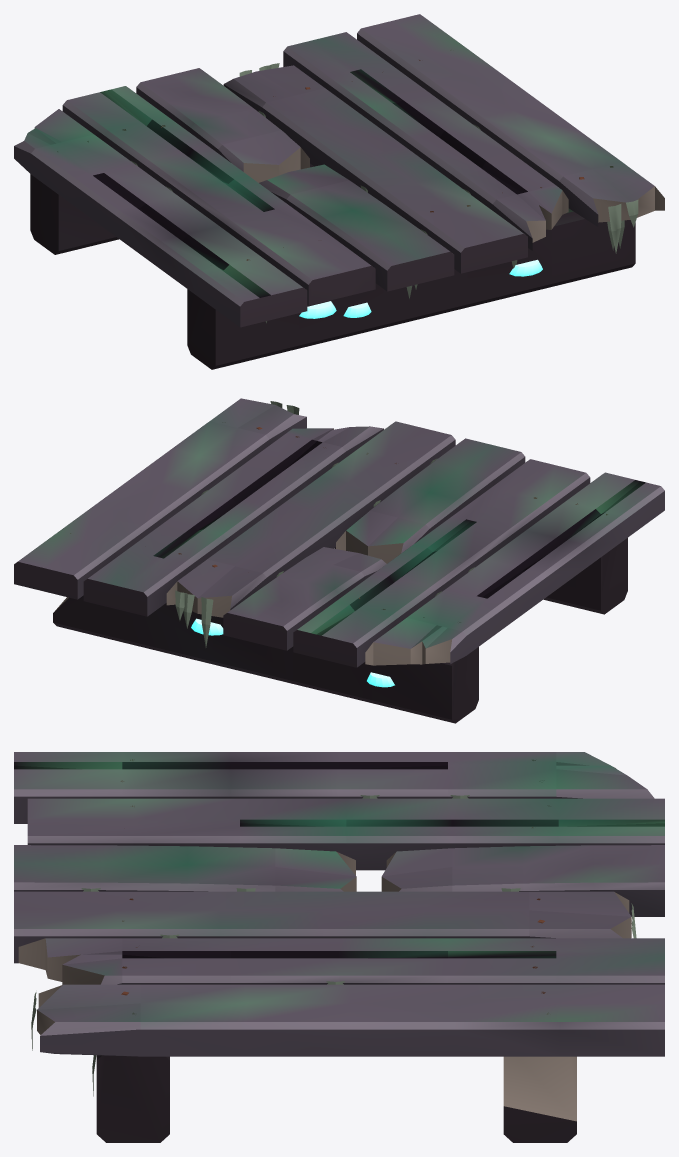
The model's file is crumble_haunted.glb.
3 renders of one model, top to bottom at view 1: azimuth 30°, elevation 25°; view 2: azimuth 150°, elevation 25°; view 3: azimuth 270°, elevation 25°, orthographic. The views are drawn at different scales.
Parts seen in each view (by area): view 1: crumble_haunted; view 2: crumble_haunted; view 3: crumble_haunted.
Part boxes in pixels (<box>): crumble_haunted: <box>14,14,664,369</box>; crumble_haunted: <box>14,398,664,723</box>; crumble_haunted: <box>14,752,664,1142</box>.
Bounding box in the file's own units: 2.4 × 0.5 × 2.4.
